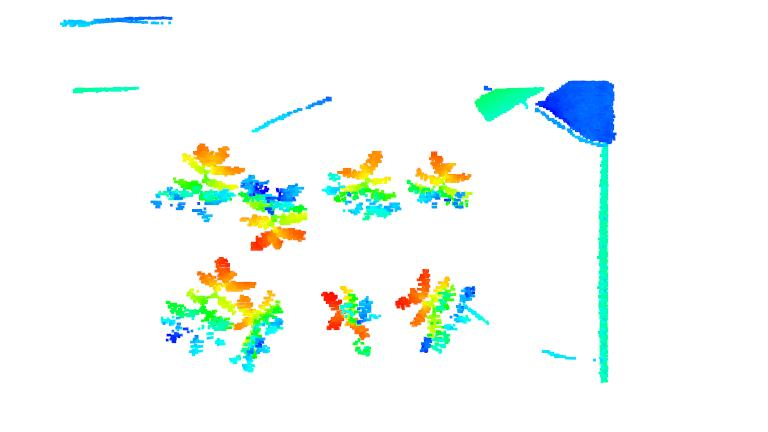chickpea: (155, 252, 255, 356), (392, 267, 486, 356), (150, 137, 243, 225), (319, 146, 407, 228), (241, 171, 316, 254), (226, 288, 290, 376), (317, 284, 385, 359), (406, 149, 477, 213)
